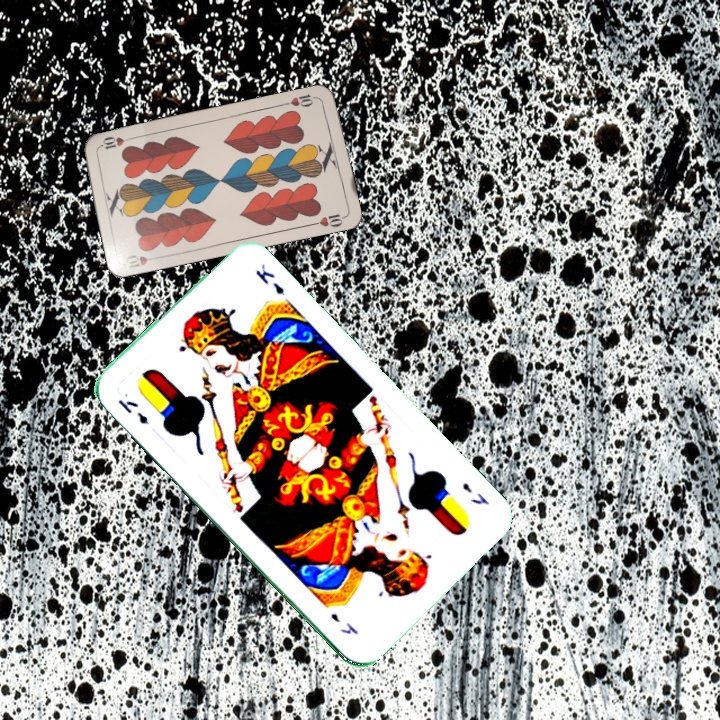EK: (113, 395, 151, 427), (458, 478, 492, 508)
H10: (121, 250, 162, 272), (287, 90, 321, 109)
